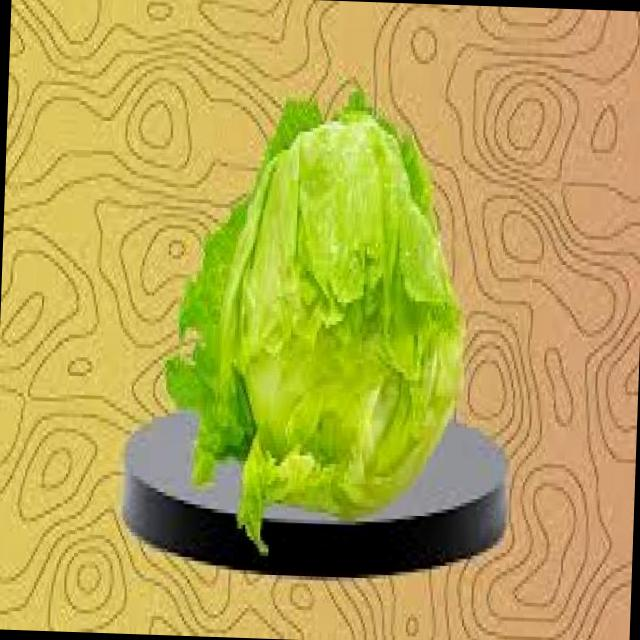Lettuce-Ready-to-Harvest: (166, 90, 459, 542)
